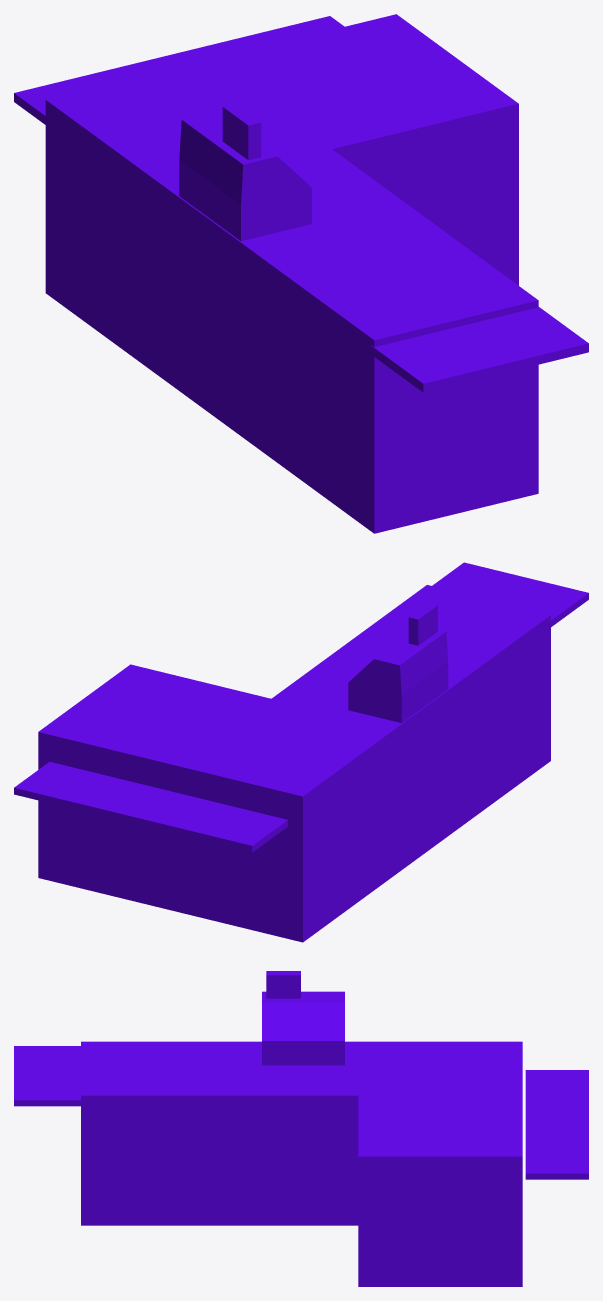
Rendered from retail_shop_workers_checkoutCounter_1_meshCollider.fbx.
3 views of the same model, one above another, from view 1: azimuth 30°, elevation 25°; view 2: azimuth 150°, elevation 25°; view 3: azimuth 270°, elevation 25° (orthographic). The views are drawn at different scales.
Parts seen in each view (by area): view 1: retail_shop_workers_checkoutCounter_1_meshCollider; view 2: retail_shop_workers_checkoutCounter_1_meshCollider; view 3: retail_shop_workers_checkoutCounter_1_meshCollider.
Part boxes in pixels (left/top/right/bottom): retail_shop_workers_checkoutCounter_1_meshCollider: left=14, top=14, right=588, bottom=533; retail_shop_workers_checkoutCounter_1_meshCollider: left=14, top=562, right=588, bottom=942; retail_shop_workers_checkoutCounter_1_meshCollider: left=14, top=971, right=588, bottom=1286.
Bounding box in the file's own units: 83.32 × 68.94 × 176.
